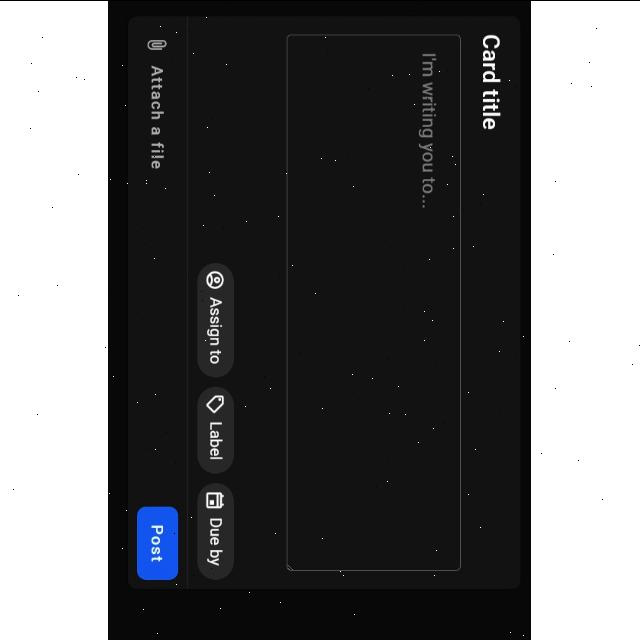QLabel: (481, 32, 501, 130), (150, 63, 166, 169), (208, 294, 224, 364), (208, 515, 224, 565), (208, 418, 224, 459), (151, 521, 165, 563)
VBtn: (198, 262, 236, 376), (197, 482, 236, 580), (198, 384, 236, 474), (136, 506, 180, 580)
VCard: (127, 13, 525, 590)
VDivider: (186, 16, 192, 586)
VIcon: (206, 392, 226, 414), (206, 490, 226, 510), (207, 270, 226, 288), (148, 36, 168, 50)
VTextField: (286, 32, 464, 572)
